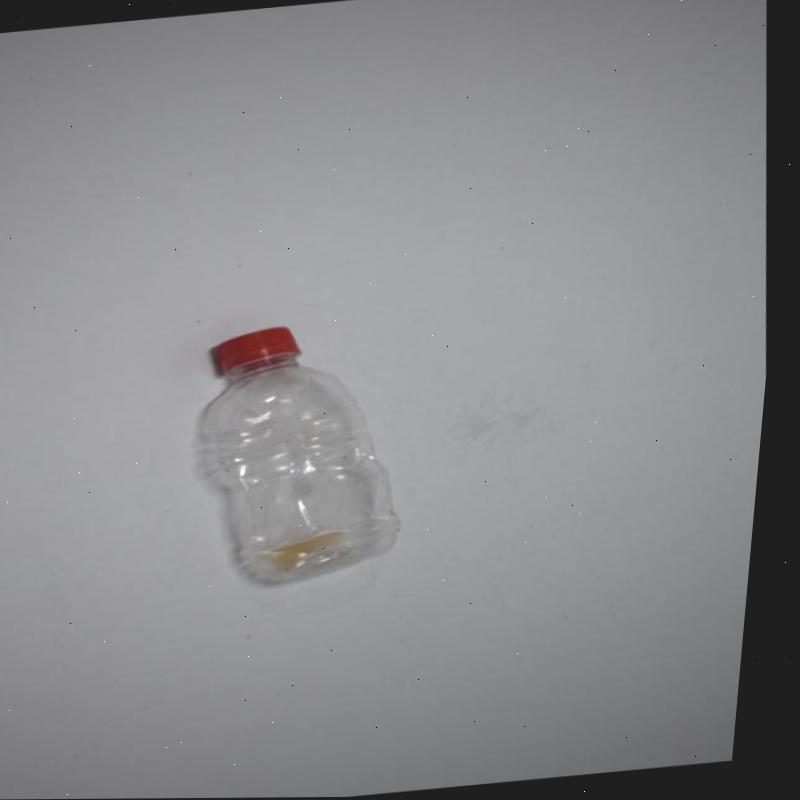botella: (175, 317, 429, 596)
